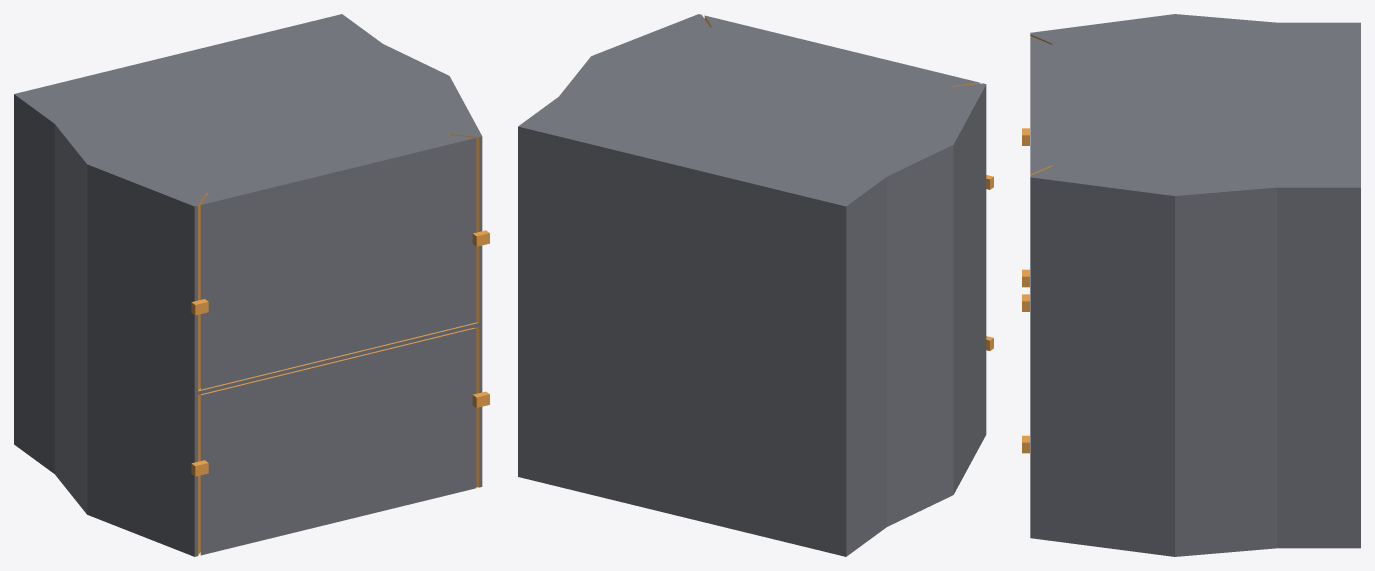
Rendered from titan.glb.
The picture shows the model from 3 angles, left to right: view 1: azimuth 30°, elevation 25°; view 2: azimuth 150°, elevation 25°; view 3: azimuth 270°, elevation 25°; orthographic projection. The views are drawn at different scales.
Visible parts, largest first — view 1: shell, upper, lower; view 2: shell, upper; view 3: shell, upper.
Boxes of the visible parts, <box> form: shell: <box>14,14,482,556</box>; upper: <box>200,134,476,389</box>; lower: <box>200,328,476,555</box>; shell: <box>518,14,986,556</box>; upper: <box>704,15,980,86</box>; shell: <box>1030,14,1360,556</box>; upper: <box>1030,36,1052,175</box>.
Size of the model in its own units: 2.16 by 2 by 1.7.
